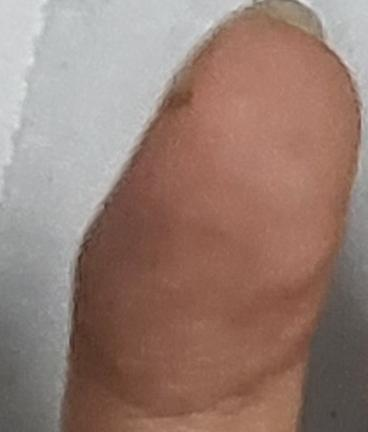Fingerprints: (72, 9, 362, 412)
